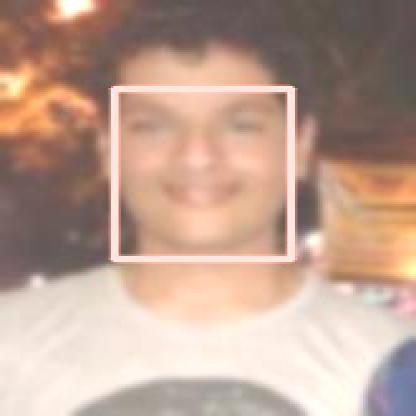without_mask: (113, 88, 290, 258)
